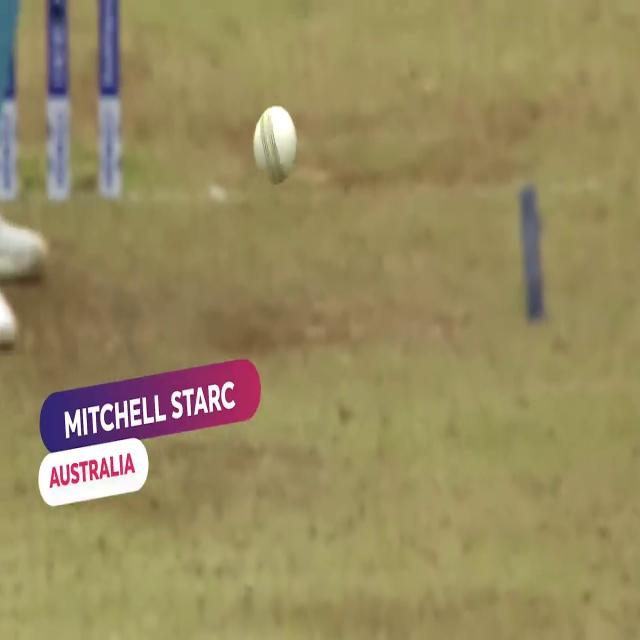ball: (253, 100, 301, 191)
